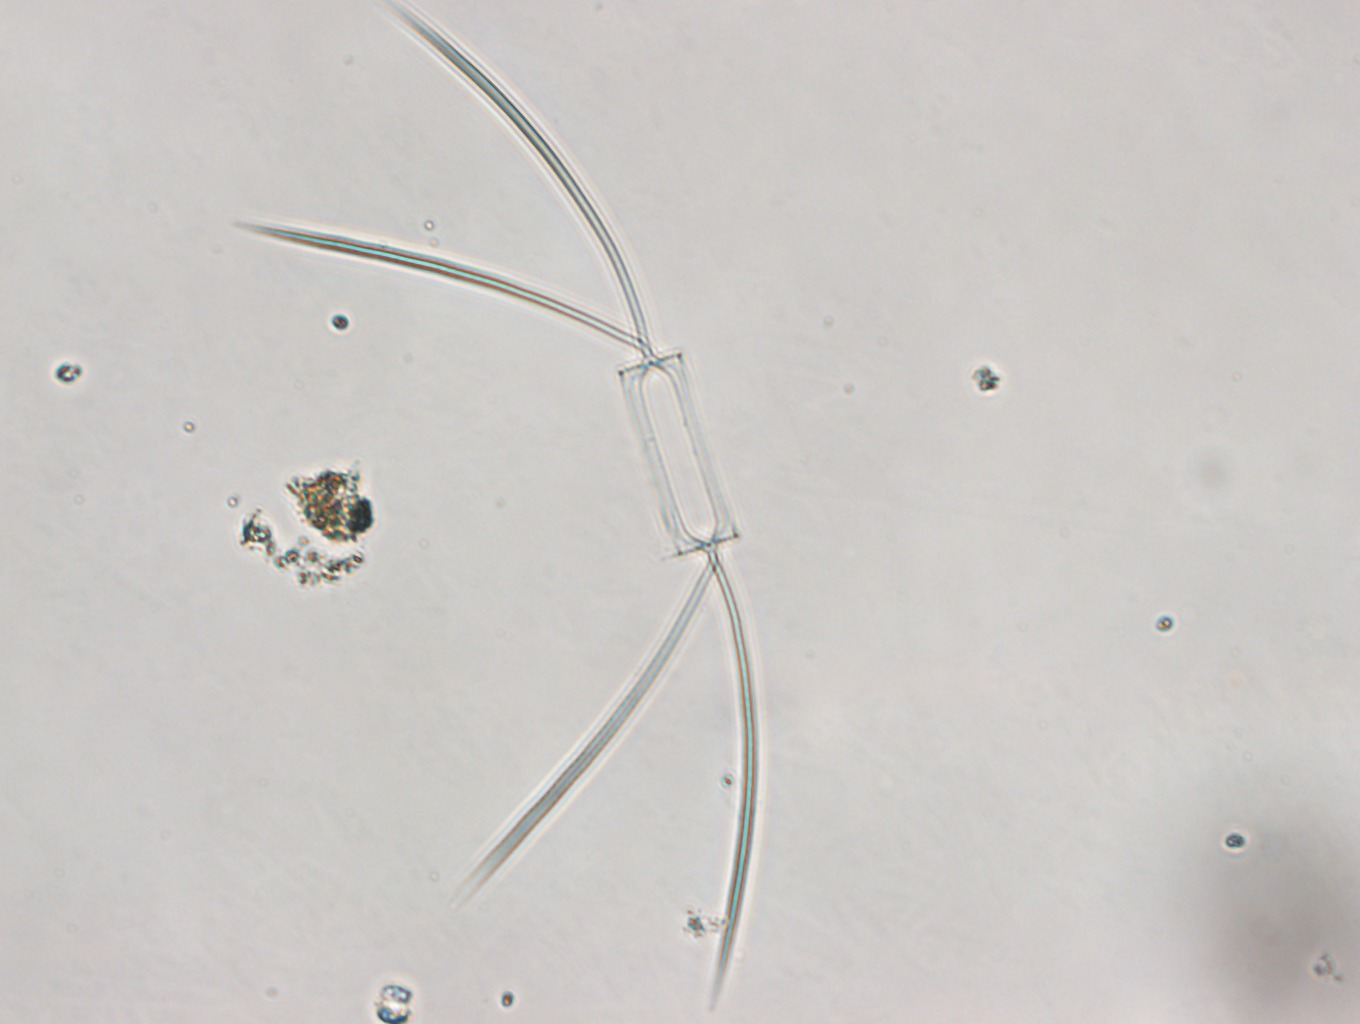chaetoceros: (230, 1, 759, 1013)
